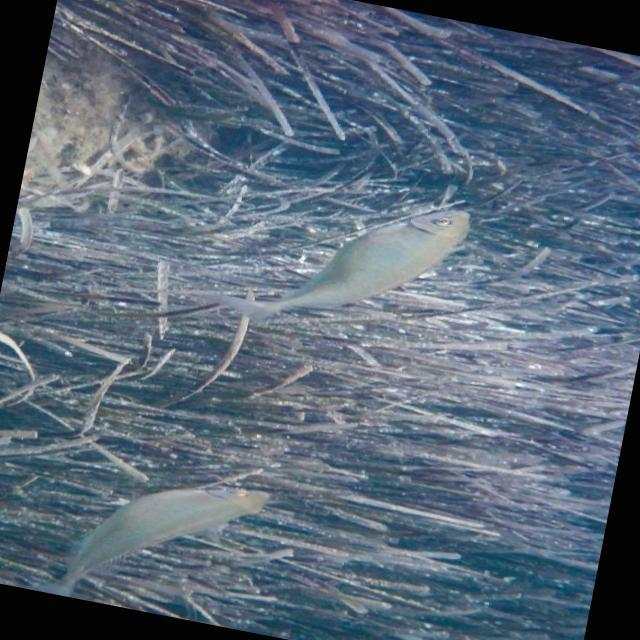Sokar Baligi: (196, 156, 492, 366)
